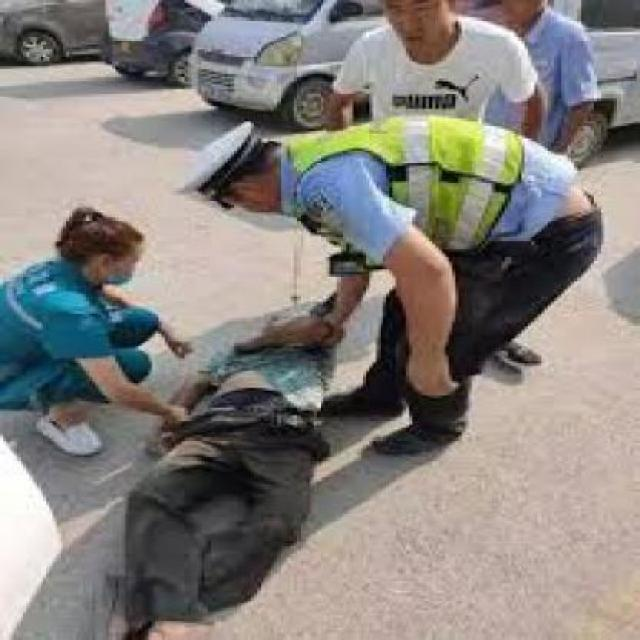fall: (73, 265, 353, 637)
